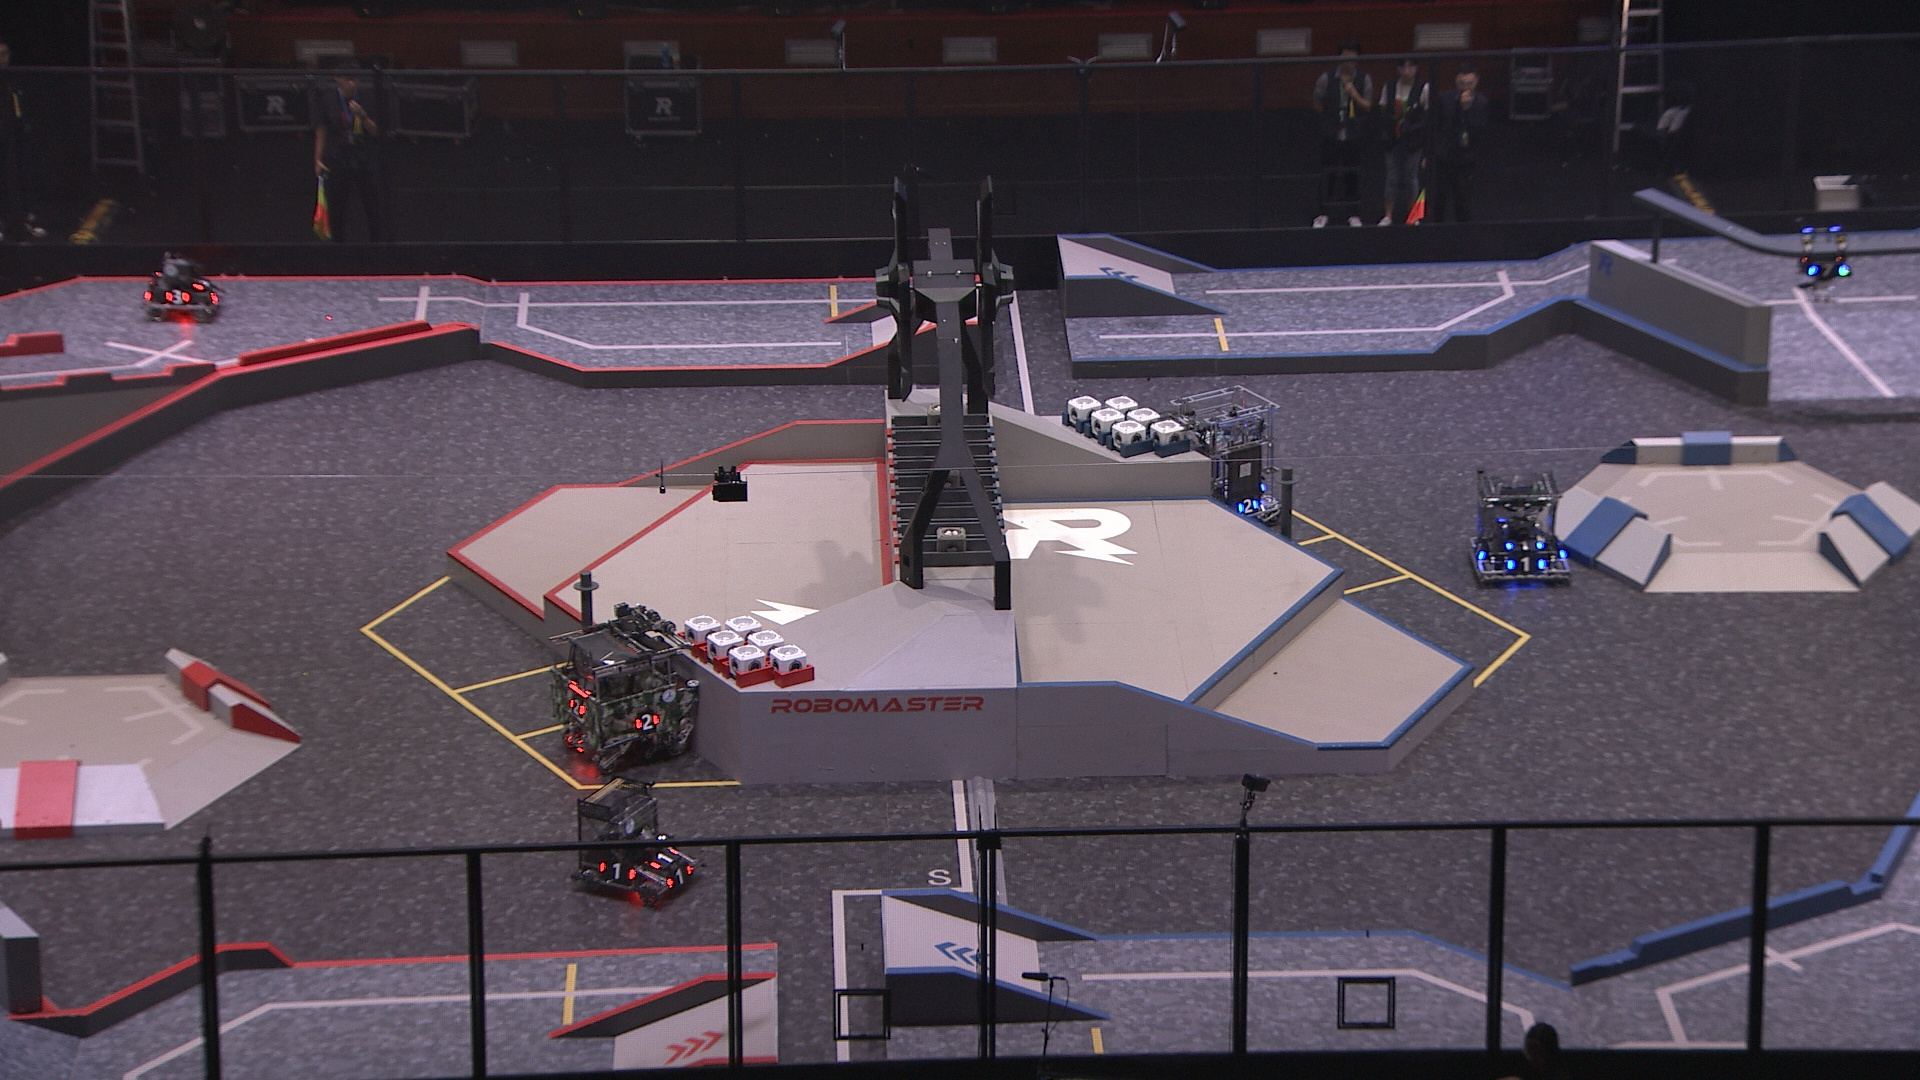armor: (659, 864, 698, 893), (596, 858, 640, 884), (642, 844, 680, 870), (628, 708, 662, 735), (1506, 553, 1548, 572), (1501, 535, 1545, 553), (1804, 262, 1847, 280), (161, 287, 193, 309), (564, 698, 588, 721), (1238, 495, 1263, 517), (186, 273, 210, 294), (1466, 541, 1484, 560)
car: (547, 613, 702, 769), (1160, 384, 1282, 527), (570, 778, 700, 910), (1462, 460, 1575, 589), (138, 248, 225, 324)
watcher: (1793, 222, 1850, 305)
